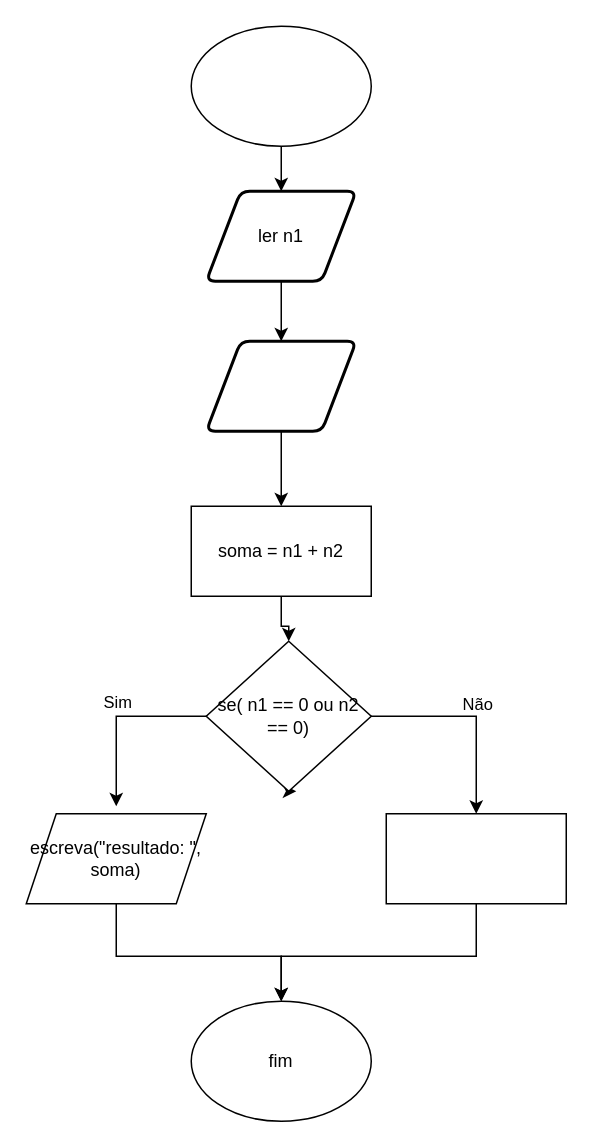
Some shapes in this 593 by 1148 pixel diagram are drawn without their labels. The centre of each missing label's shape, as x and y in pixels:
"Algumas das opções podem ser invalidas." goes at [475,858].
"inicio" goes at [280,85].
"ler n2" goes at [280,385].
